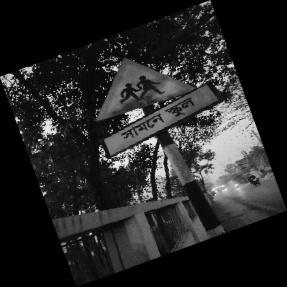School-in-front: (91, 53, 221, 160)
